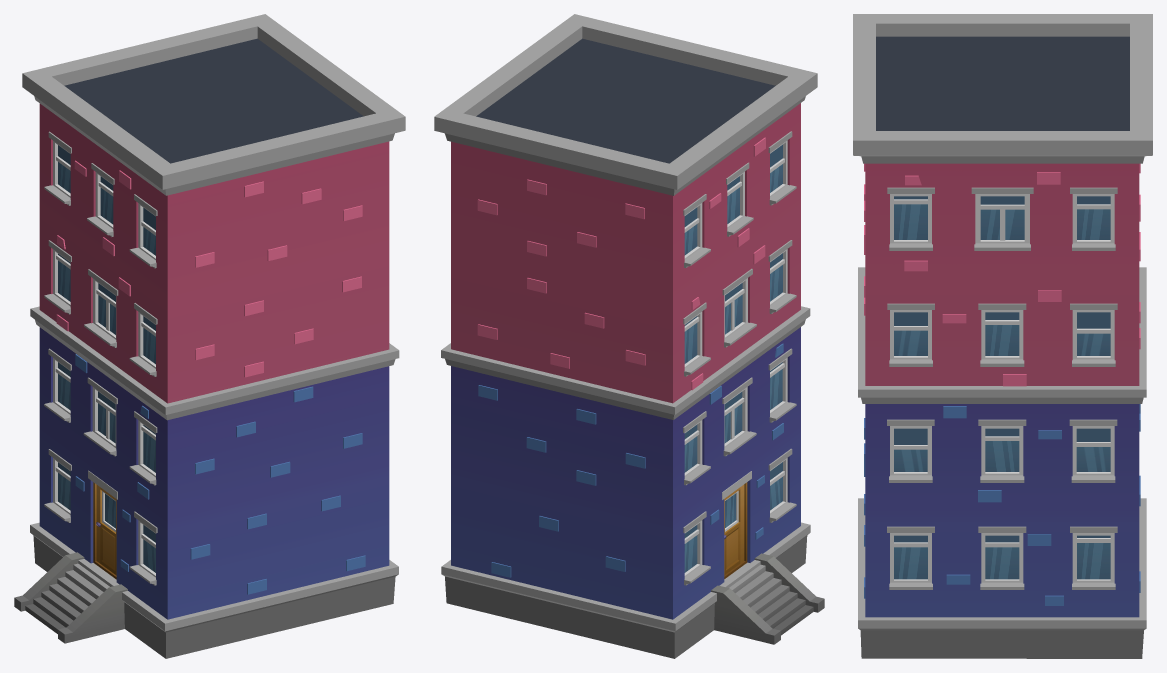
File: Building_2_8_B.fbx
3 views of the same model, side by side, from view 1: azimuth 30°, elevation 25°; view 2: azimuth 150°, elevation 25°; view 3: azimuth 270°, elevation 25° (orthographic). The views are drawn at different scales.
Parts seen in each view (by area): view 1: Building_2_8_B; view 2: Building_2_8_B; view 3: Building_2_8_B.
Boxes of the visible parts, x1,y1,x2,y2 form: Building_2_8_B: [14, 14, 405, 658]; Building_2_8_B: [434, 14, 824, 658]; Building_2_8_B: [853, 14, 1152, 658].
Bounding box in the file's own units: 754 × 1191 × 620.
